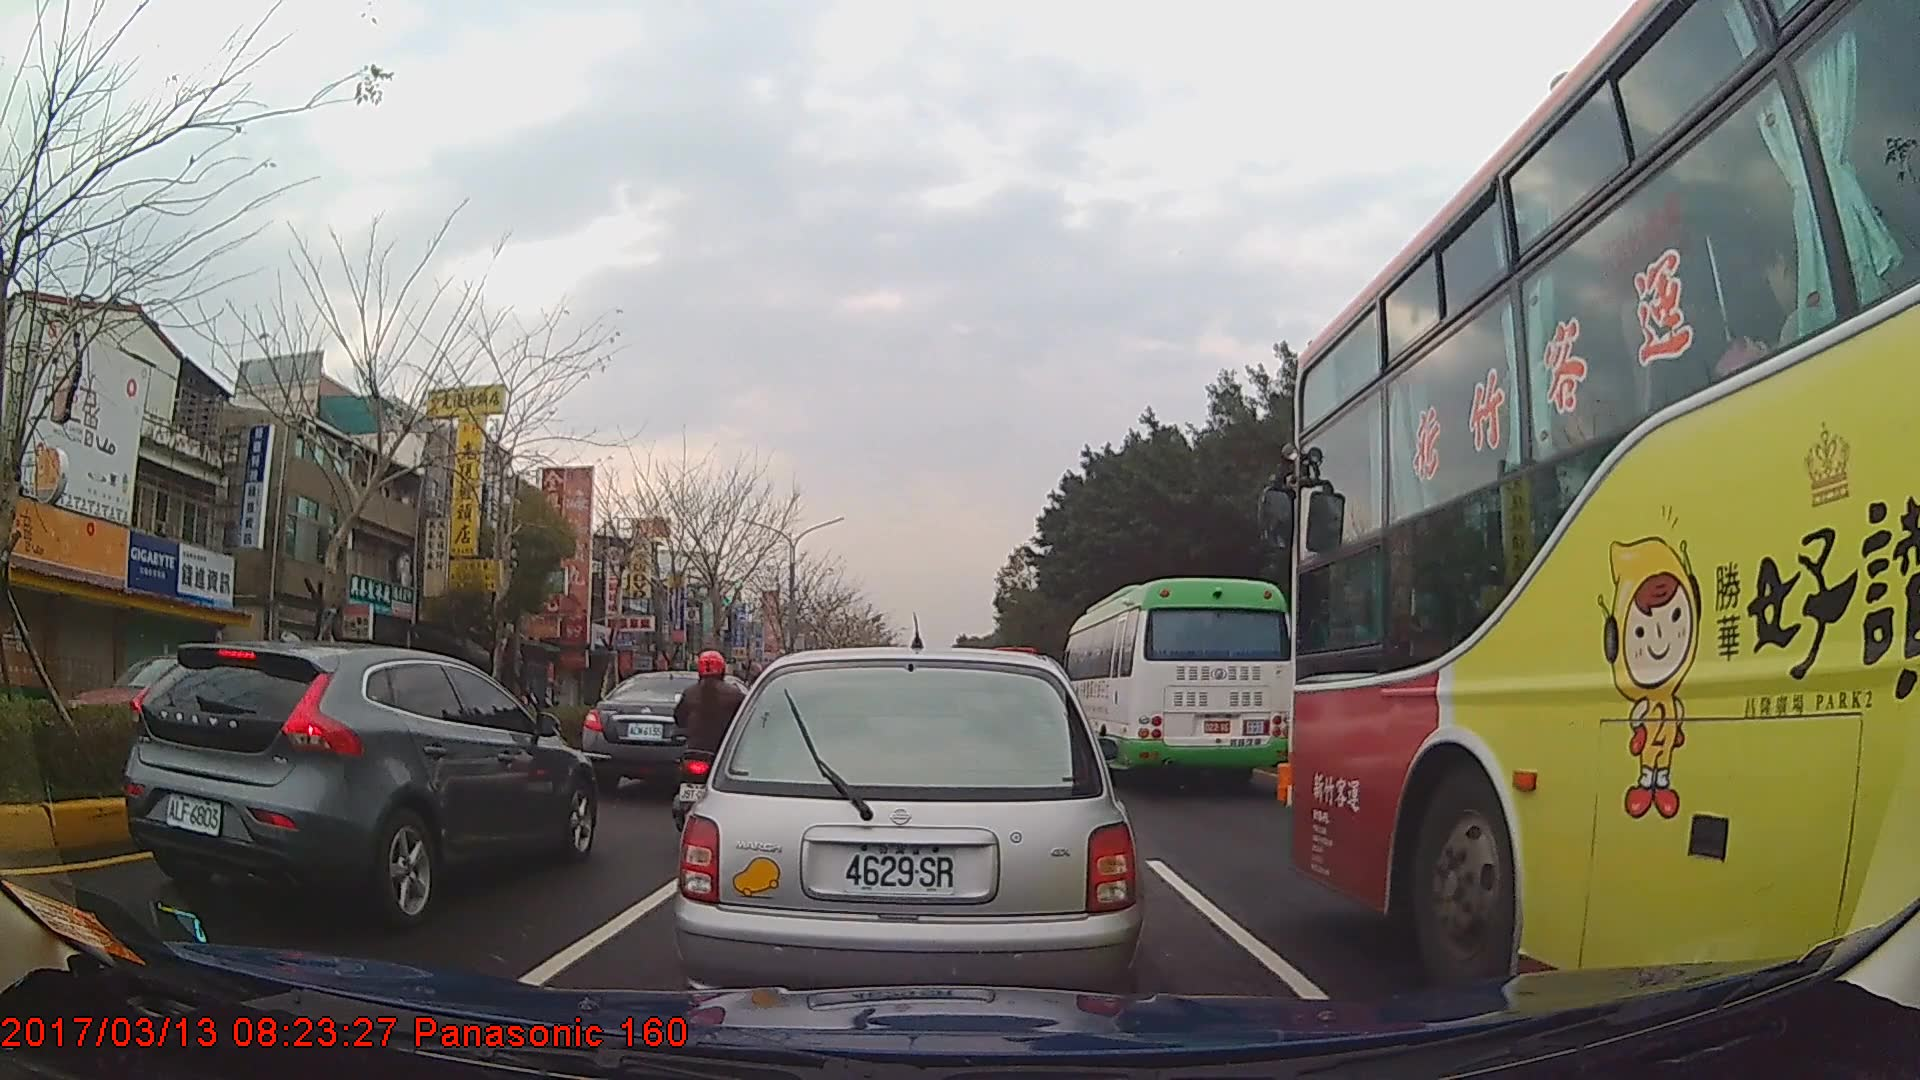rider: (669, 648, 755, 838)
vehicle: (1288, 0, 1920, 1003), (679, 643, 1142, 1019), (121, 638, 600, 931), (1061, 575, 1297, 787), (581, 671, 757, 791)
